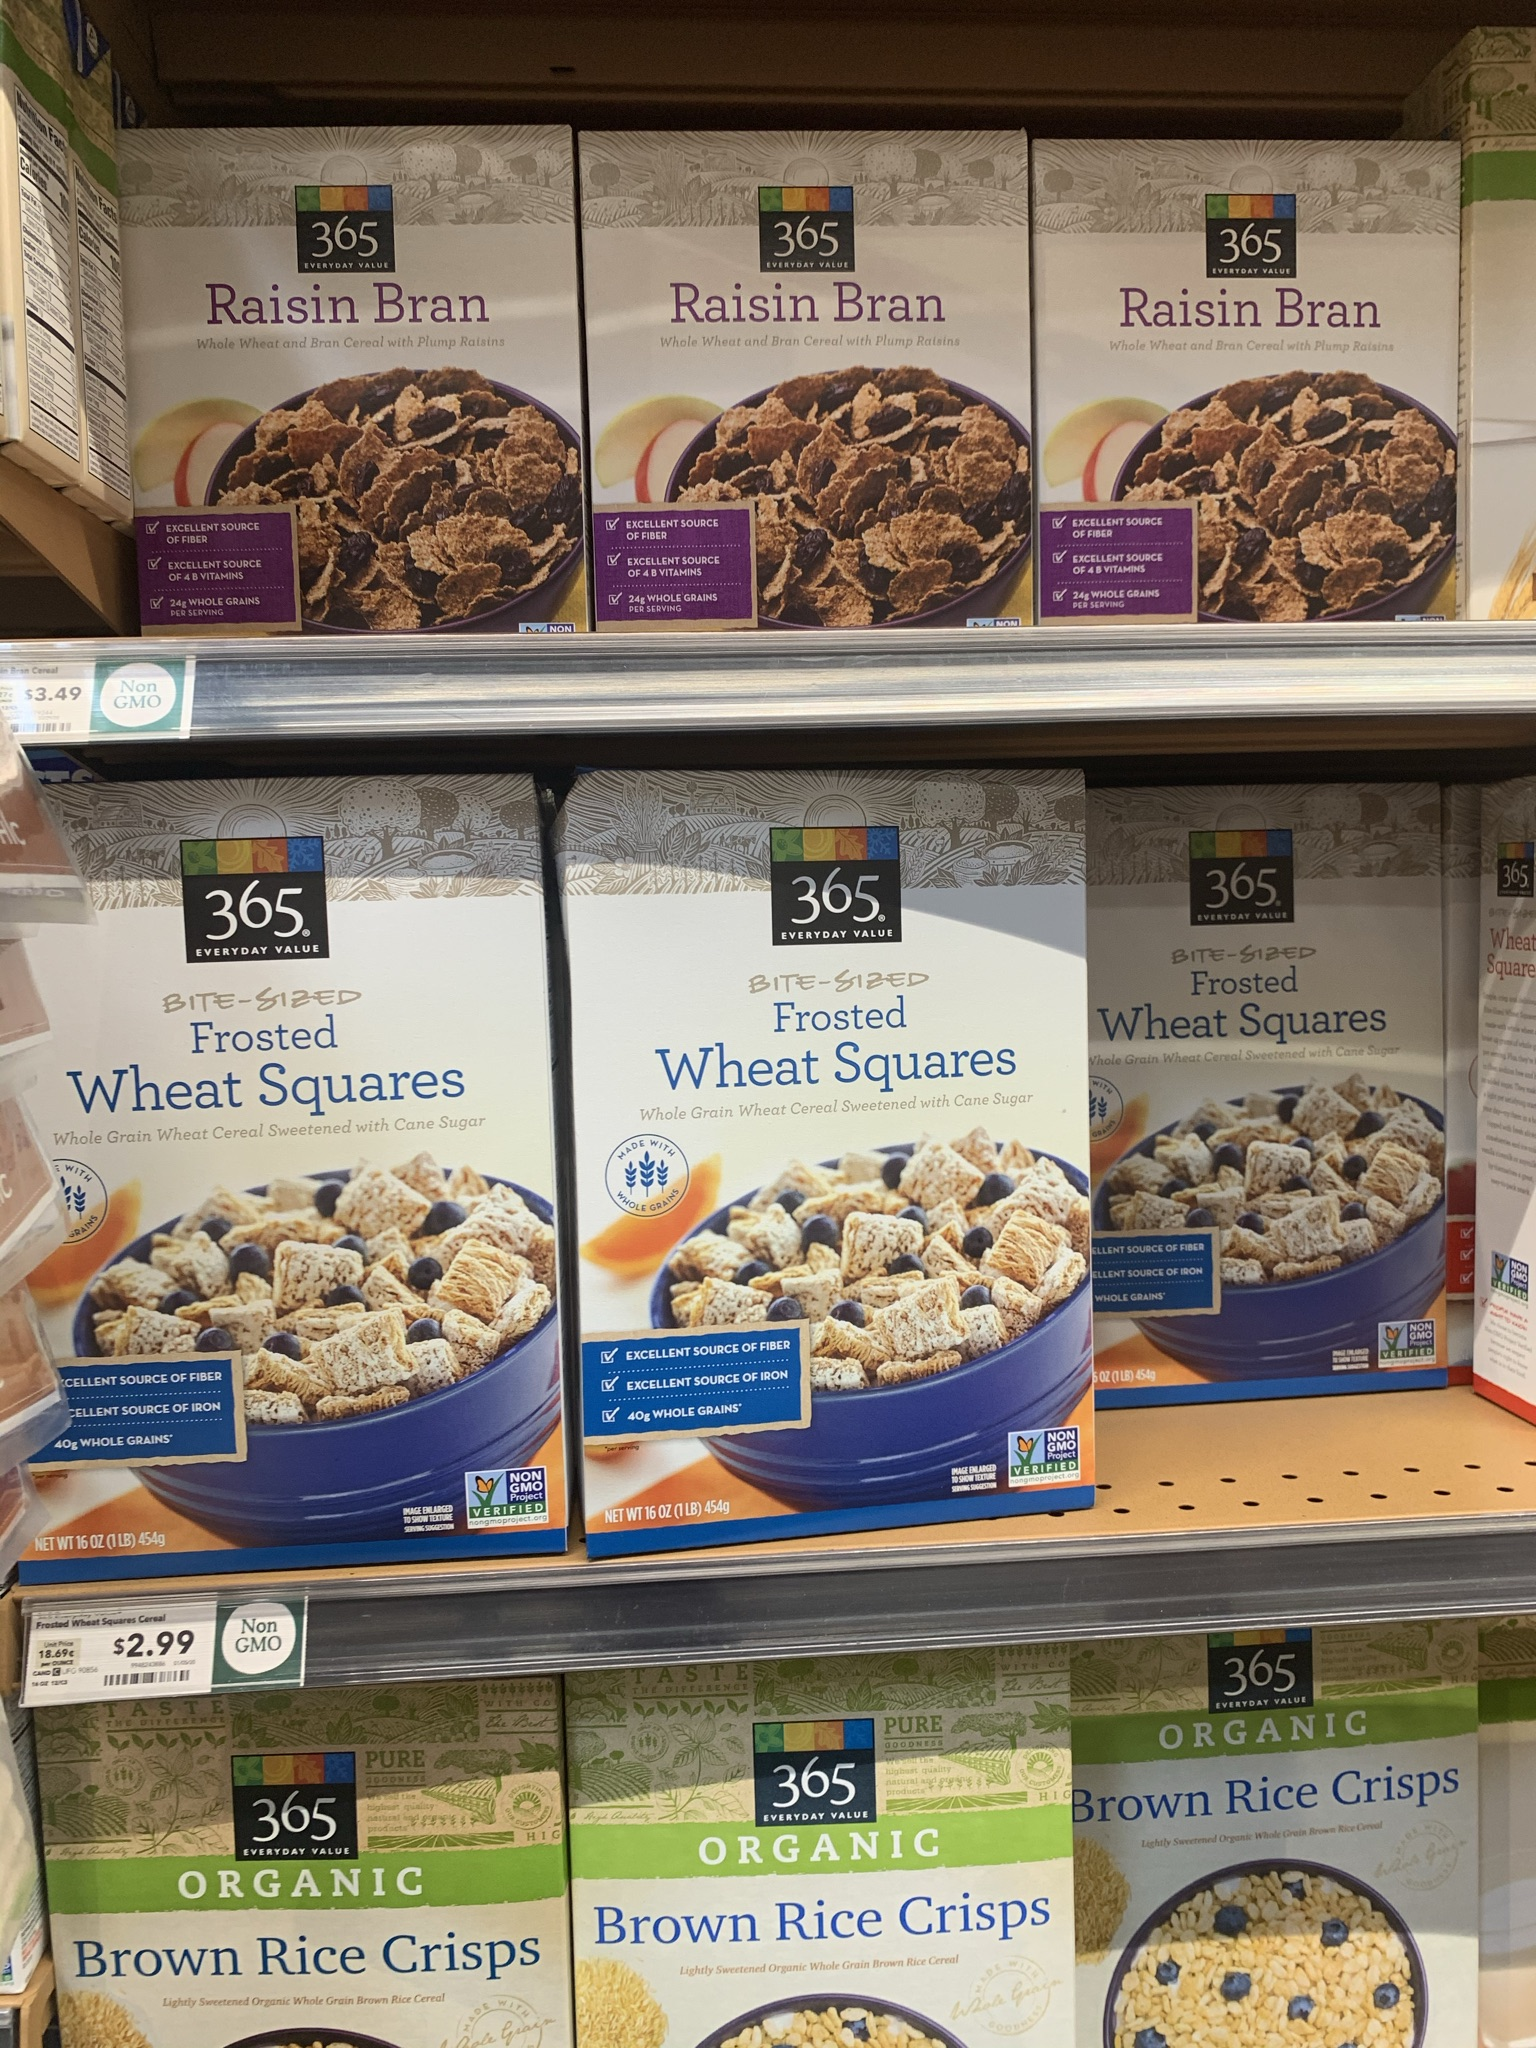Cereal: (31, 776, 570, 1556), (571, 769, 1100, 1514), (111, 111, 589, 632), (579, 111, 1034, 626), (1096, 777, 1460, 1400), (1033, 131, 1462, 631)
